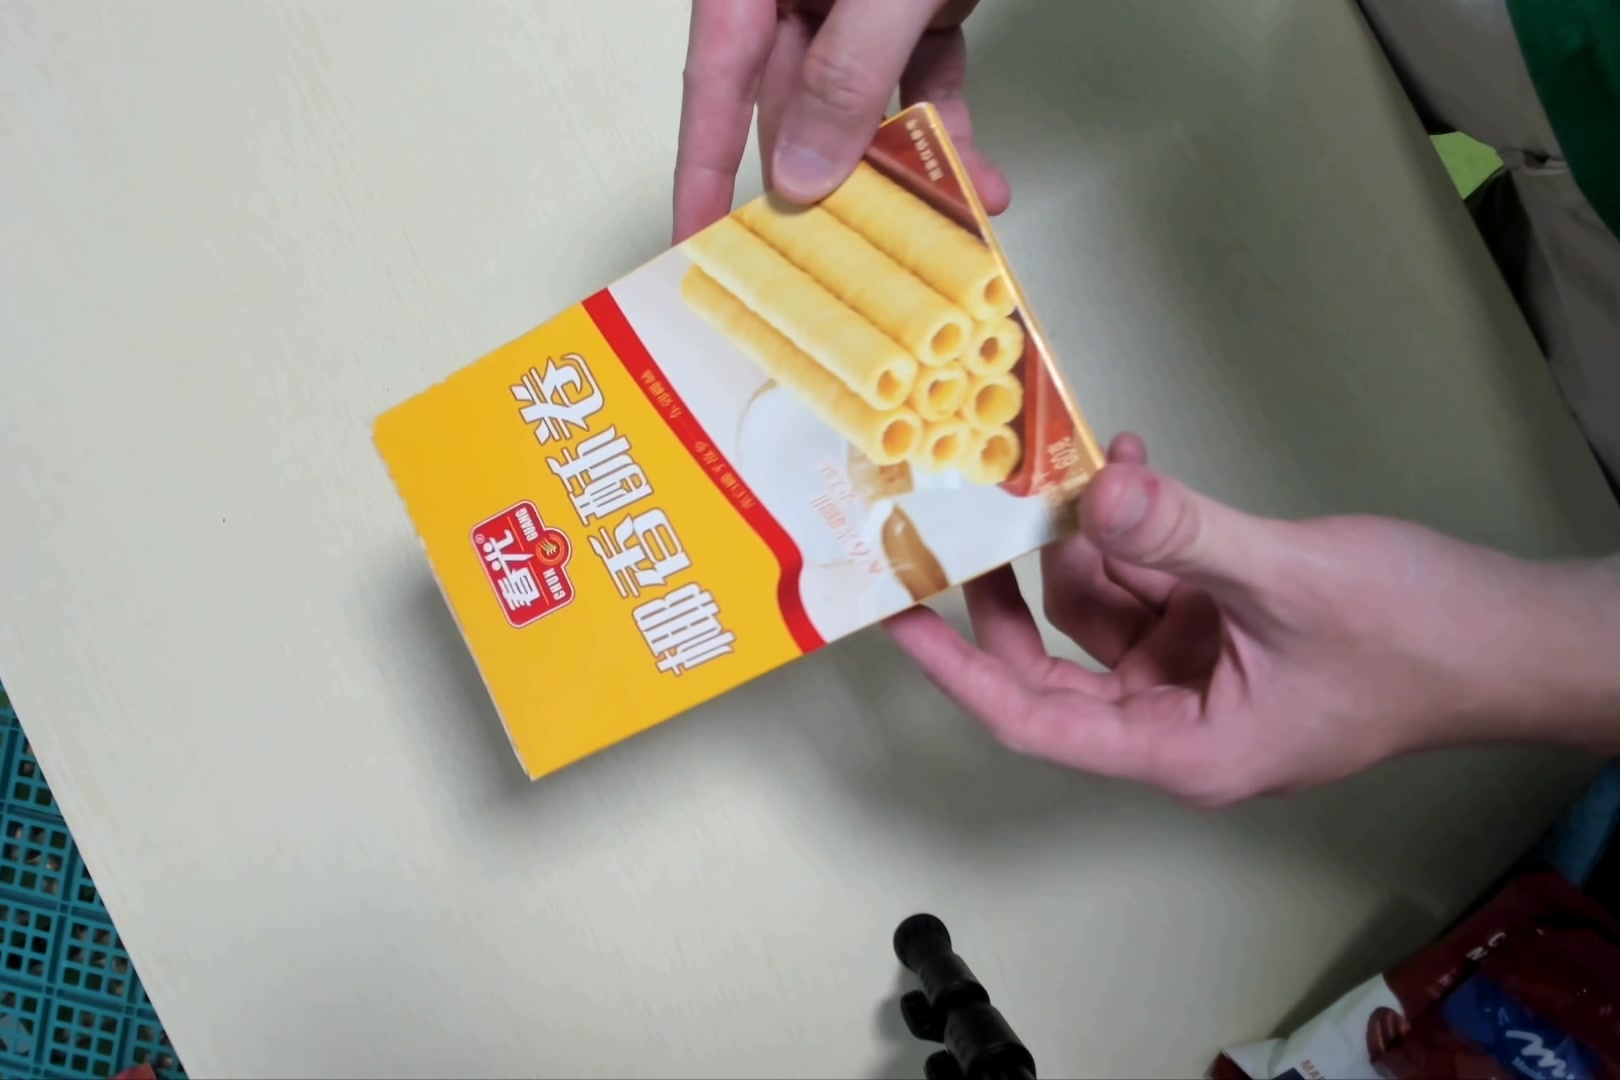BiscuitsCrackersCookies_0-99g_NonHalal_NonHealthy: (374, 108, 1102, 787)
